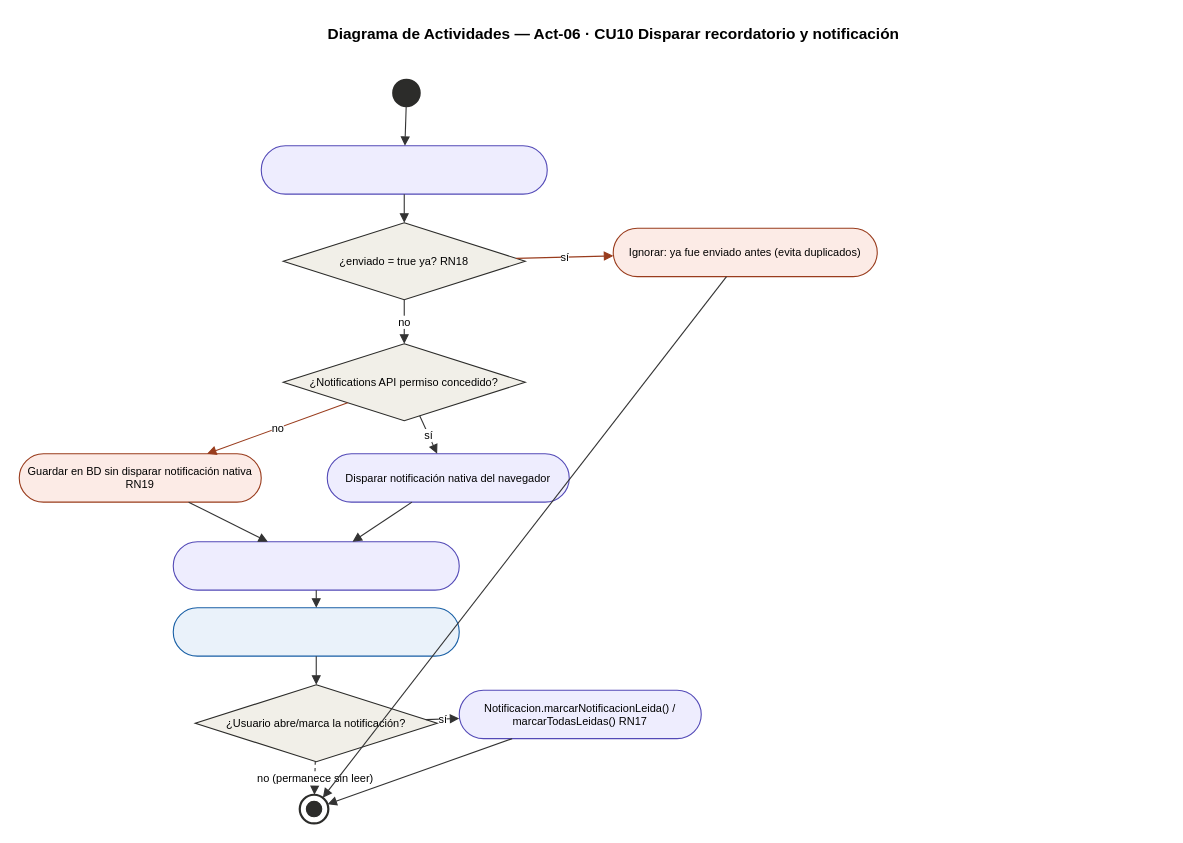
Some shapes in this 1183 by 843 pixel diagram are drawn without their labels. The centre of each missing label's shape, as x and y in pixels:
Llega fecha_programada del recordatorio: (x=403, y=169)
Notificacion.crearNotificacion() RN16: (x=315, y=631)
Recordatorio.marcarRecordatorioEnviado(): (x=315, y=565)
